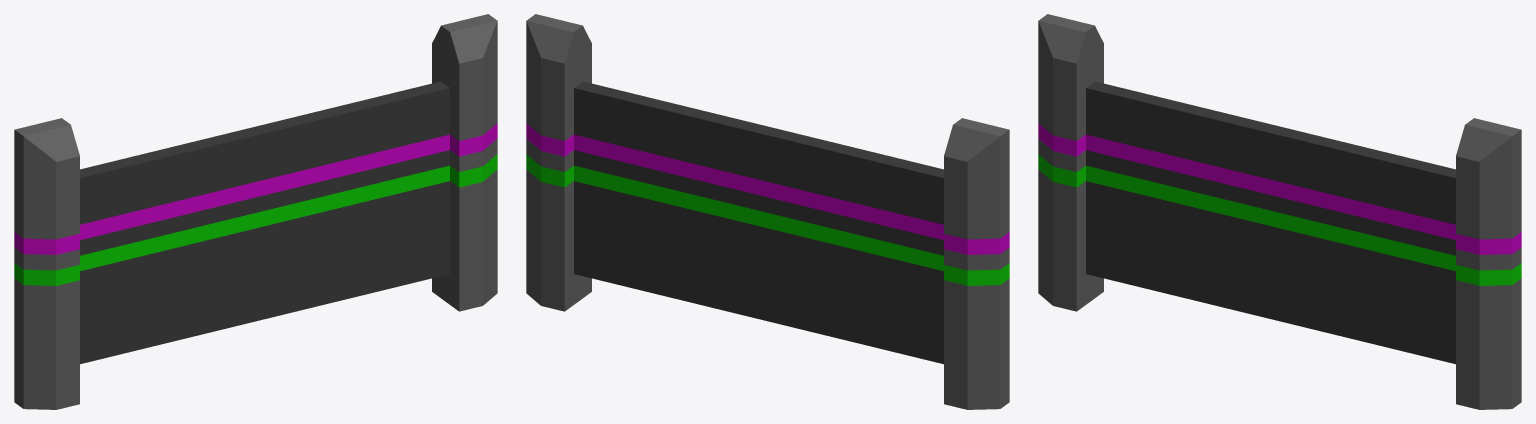
File: Barrier.fbx
3 renders of one model, left to right at view 1: azimuth 30°, elevation 25°; view 2: azimuth 150°, elevation 25°; view 3: azimuth 330°, elevation 25°, orthographic.
Parts seen in each view (by area): view 1: Barrier; view 2: Barrier; view 3: Barrier.
Part boxes in pixels (bbox=[...]): Barrier: bbox=[14, 14, 497, 409]; Barrier: bbox=[526, 14, 1009, 409]; Barrier: bbox=[1038, 14, 1521, 409].
Bounding box in the file's own units: 2000 × 1100 × 200.
